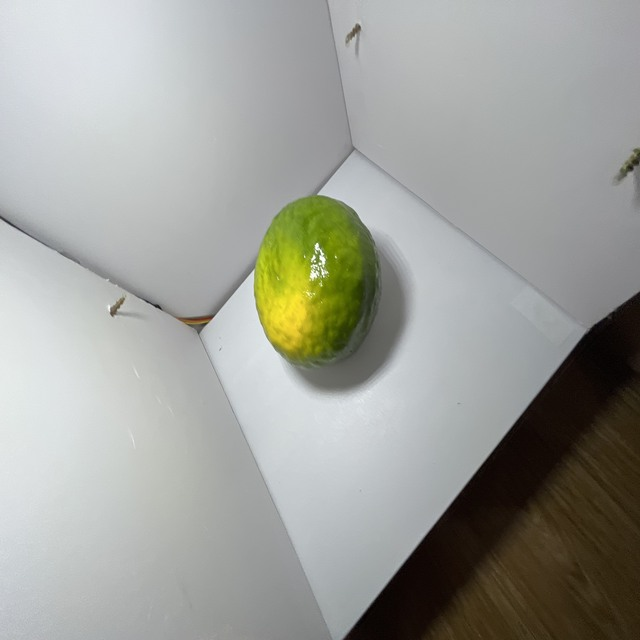Cam xanh: (252, 190, 380, 372)
